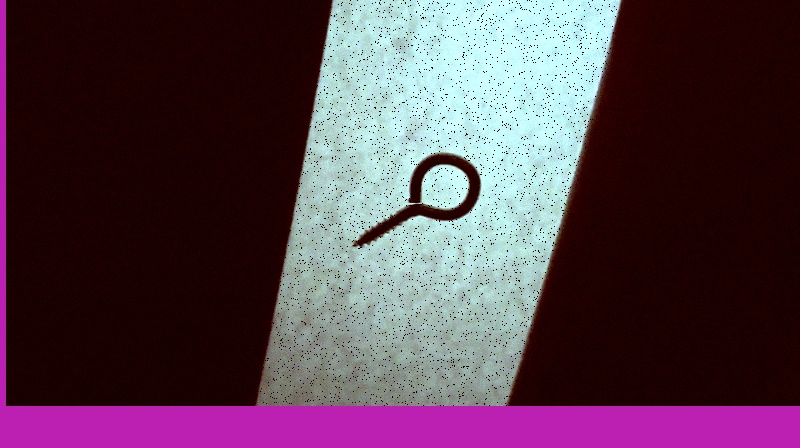O001: (347, 149, 482, 250)
